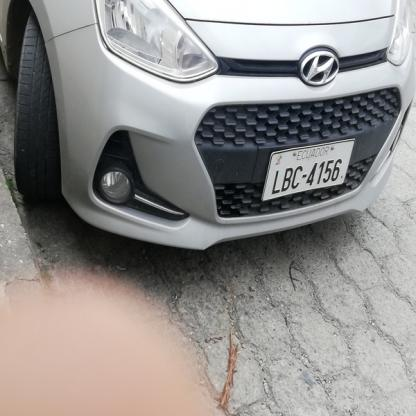Placa: (266, 140, 352, 199)
